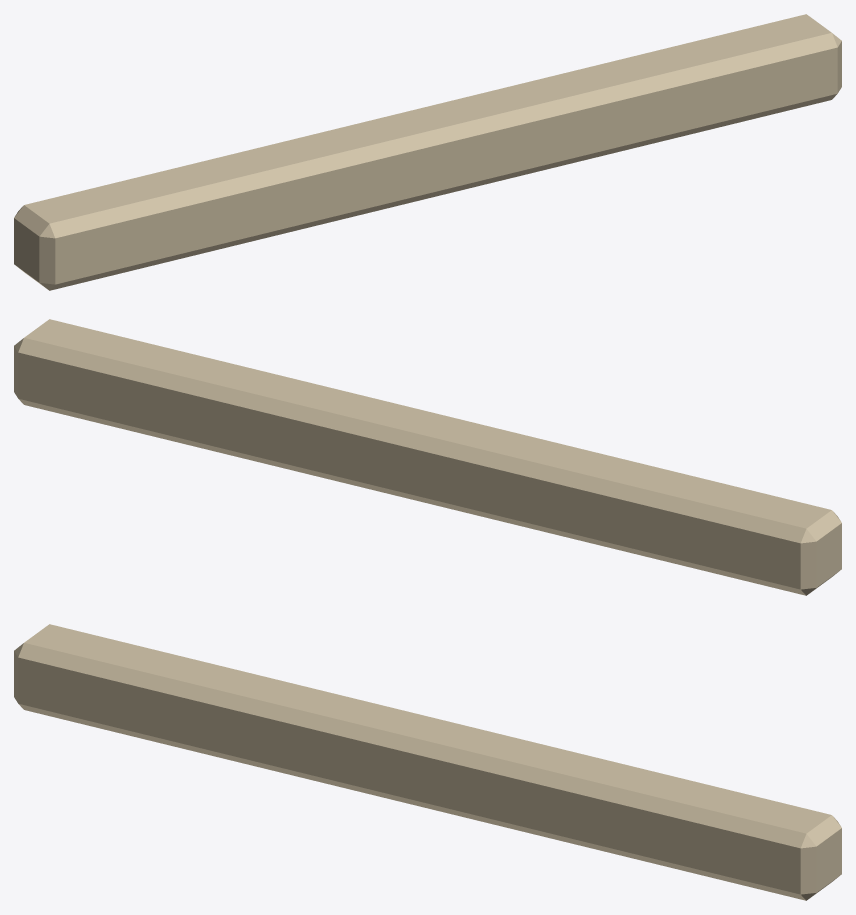
The model's file is mp_edge_trim.glb.
The picture shows the model from 3 angles, top to bottom: view 1: azimuth 30°, elevation 25°; view 2: azimuth 150°, elevation 25°; view 3: azimuth 330°, elevation 25°; orthographic projection.
Visible parts, largest first — view 1: mp_edge_trim; view 2: mp_edge_trim; view 3: mp_edge_trim.
Part boxes in pixels (x1,y1,x2,y2): mp_edge_trim: [14, 14, 841, 290]; mp_edge_trim: [14, 319, 841, 595]; mp_edge_trim: [14, 624, 841, 900].
Bounding box in the file's own units: 2 × 0.16 × 0.16.
